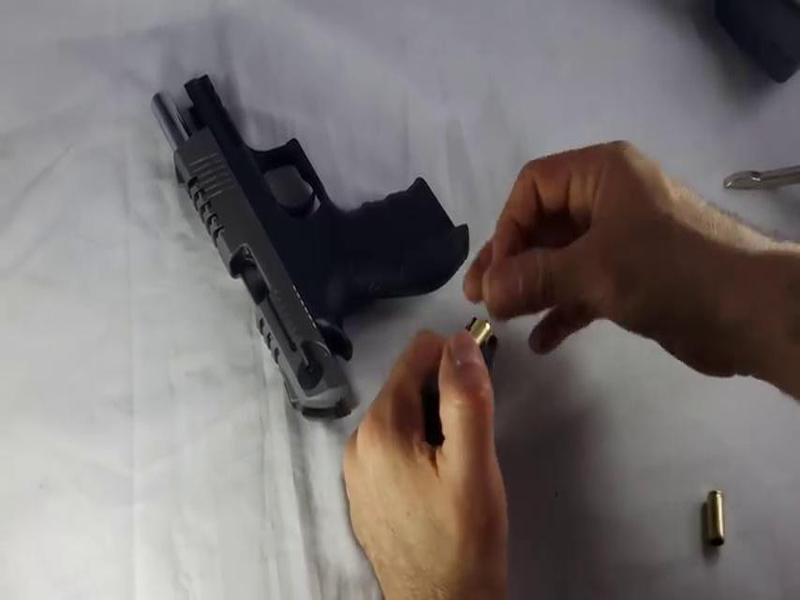Pistola: (144, 64, 464, 438)
